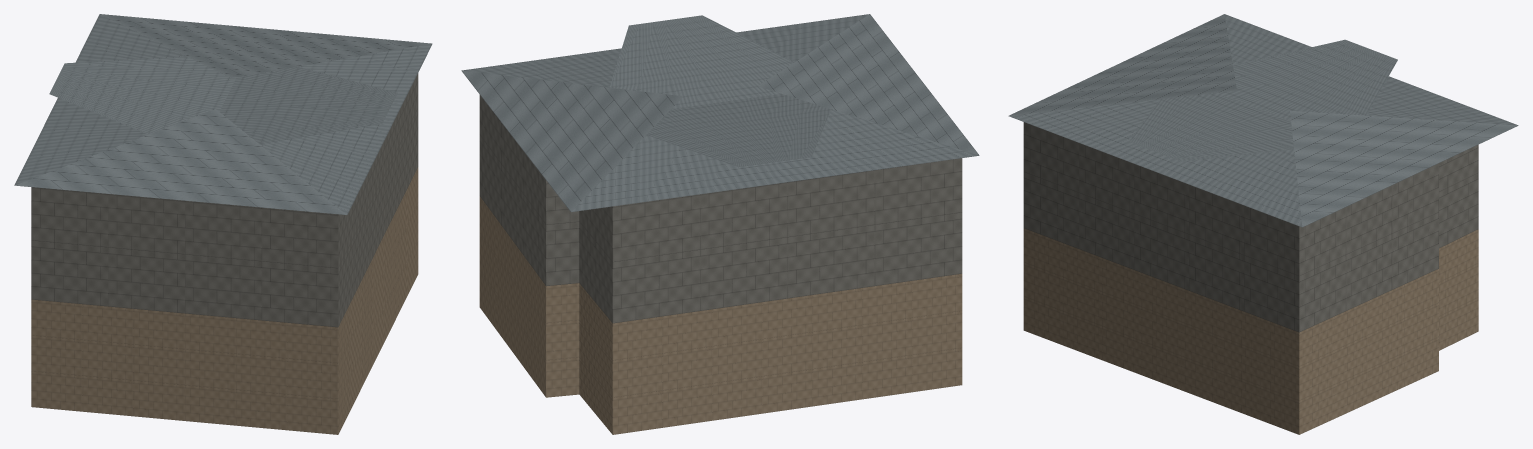
The model's file is bld_c8_16_438.gltf.
3 views of the same model, side by side, from view 1: azimuth 30°, elevation 25°; view 2: azimuth 150°, elevation 25°; view 3: azimuth 270°, elevation 25° (orthographic). The views are drawn at different scales.
Visible parts, largest first — view 1: bld_c8_16_438; view 2: bld_c8_16_438; view 3: bld_c8_16_438.
Part boxes in pixels (x1=…): bld_c8_16_438: x1=14, y1=14, x2=432, y2=434; bld_c8_16_438: x1=461, y1=14, x2=979, y2=434; bld_c8_16_438: x1=1008, y1=14, x2=1518, y2=434.
Size of the model in its own units: 22.8 by 11.7 by 23.05.
3 materials, 3 textured.
